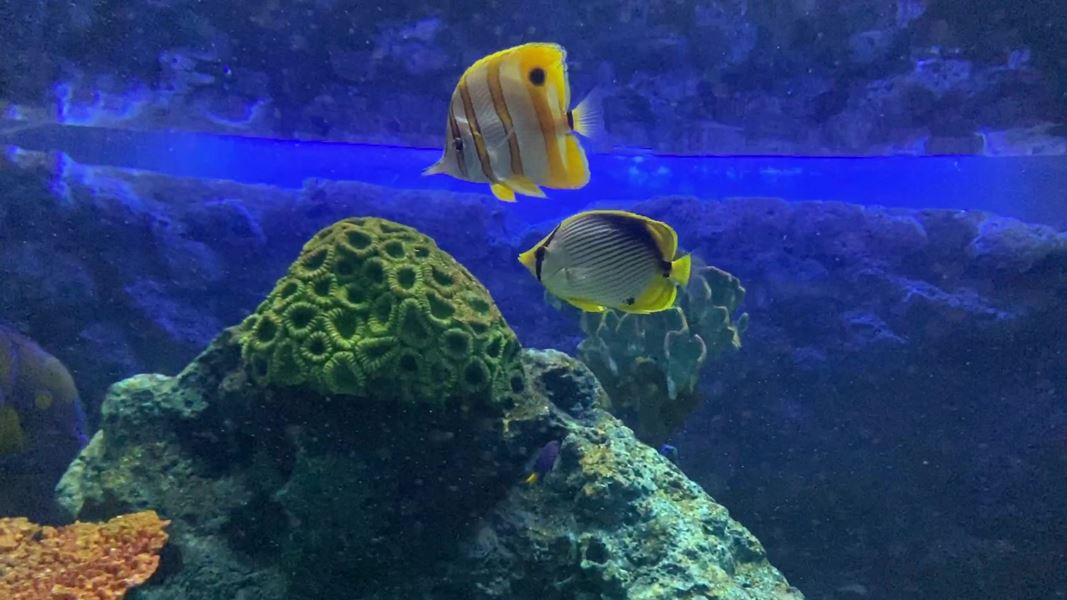Black-backed butterflyfish: (511, 201, 717, 324)
